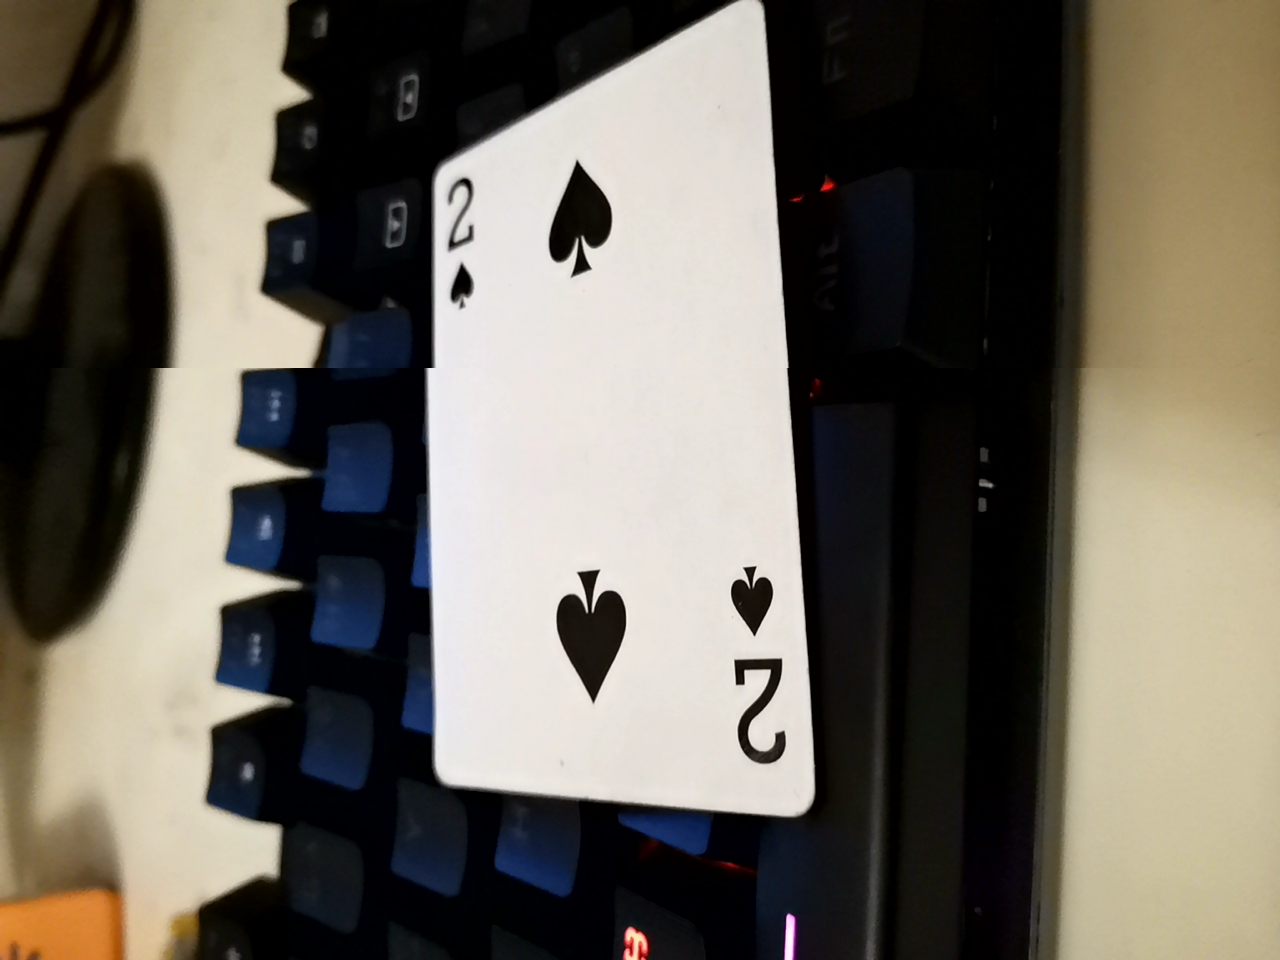ht 2: (405, 31, 815, 838)
